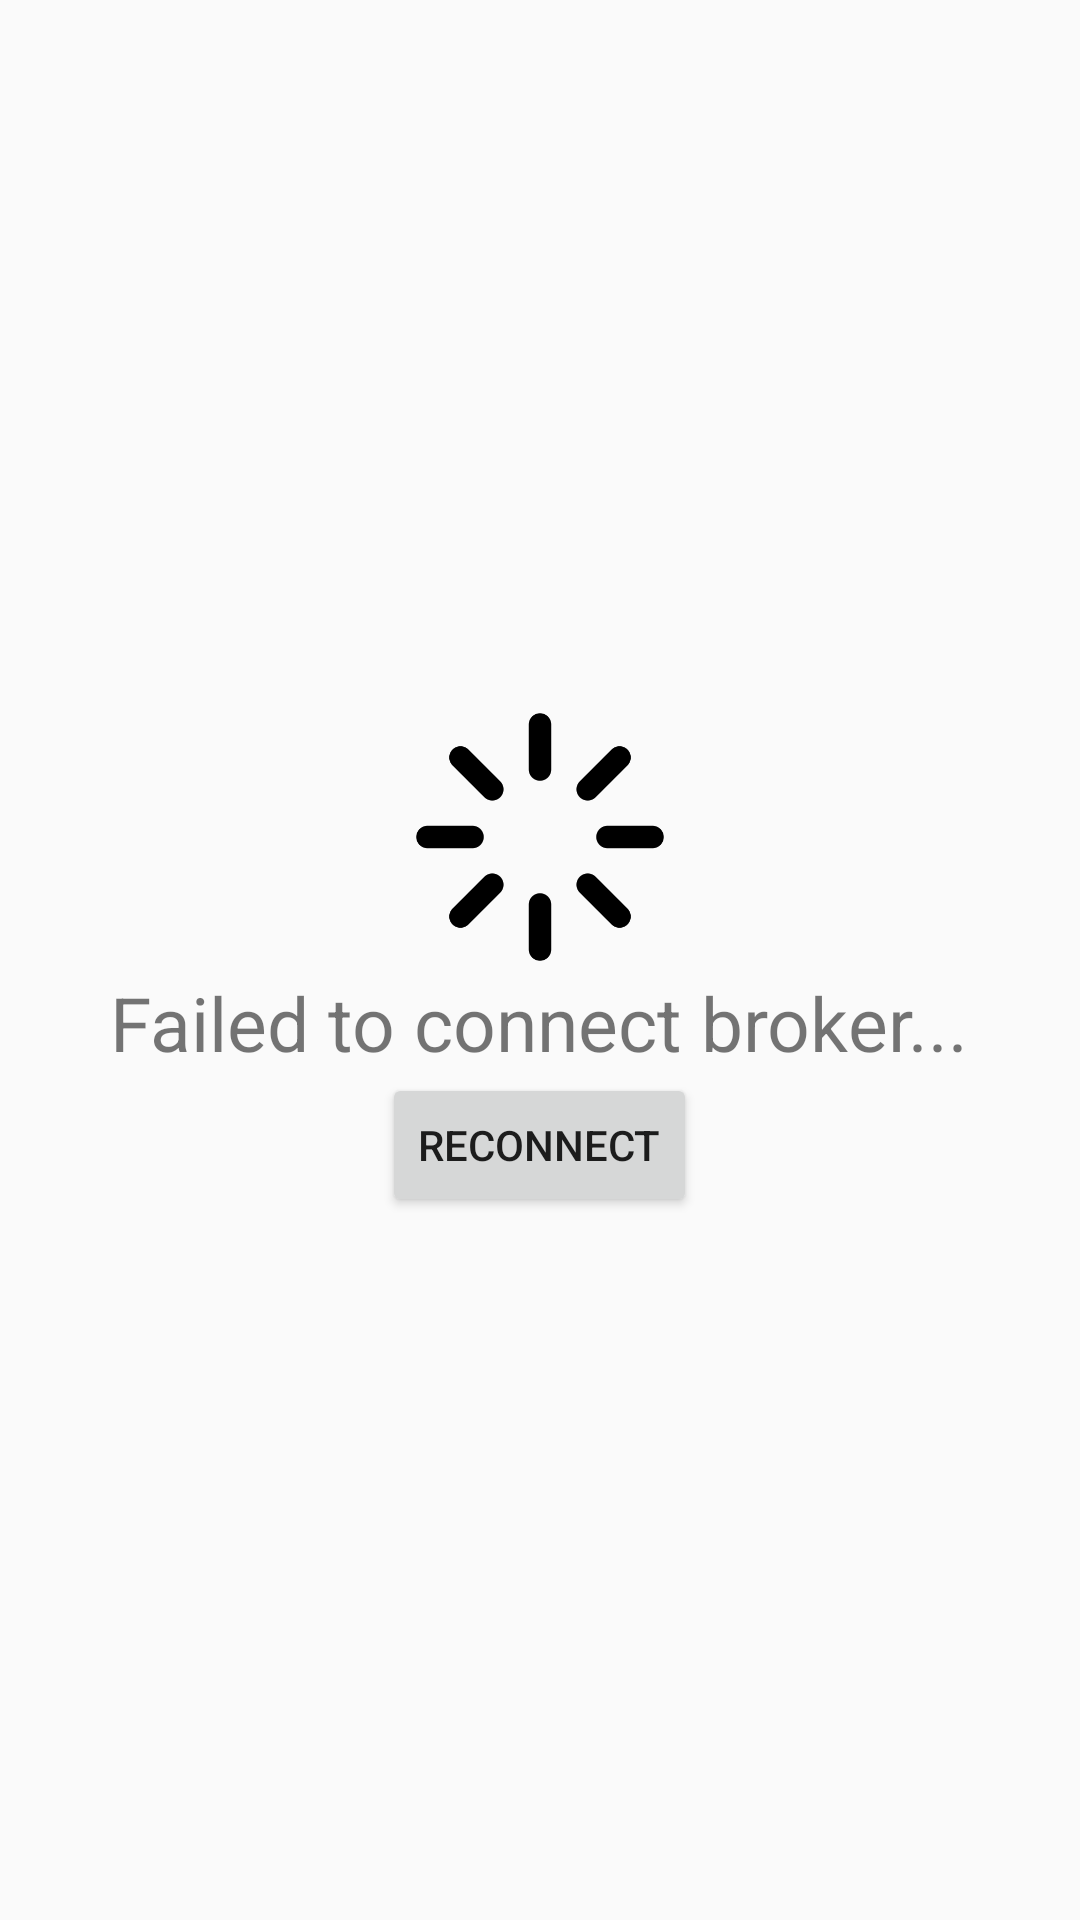

Icon click points for this 1080w x 1920h phone screenshot, format (x=x, y=y):
loading: (x=540, y=837)
